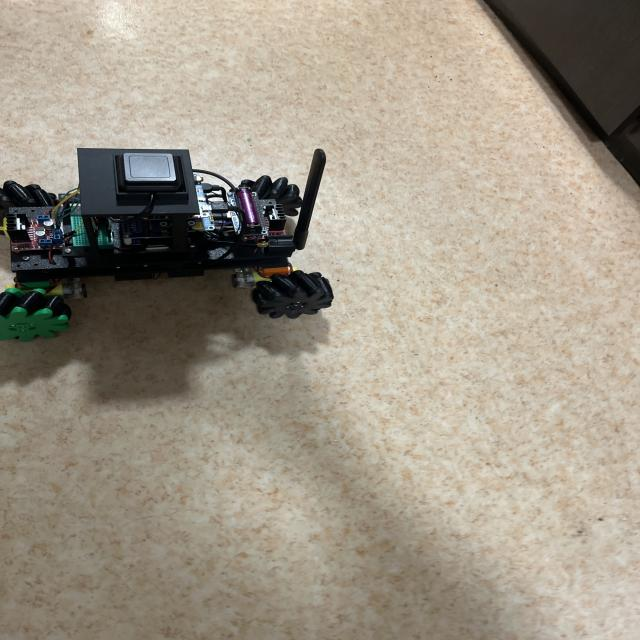robot: (0, 148, 334, 341)
